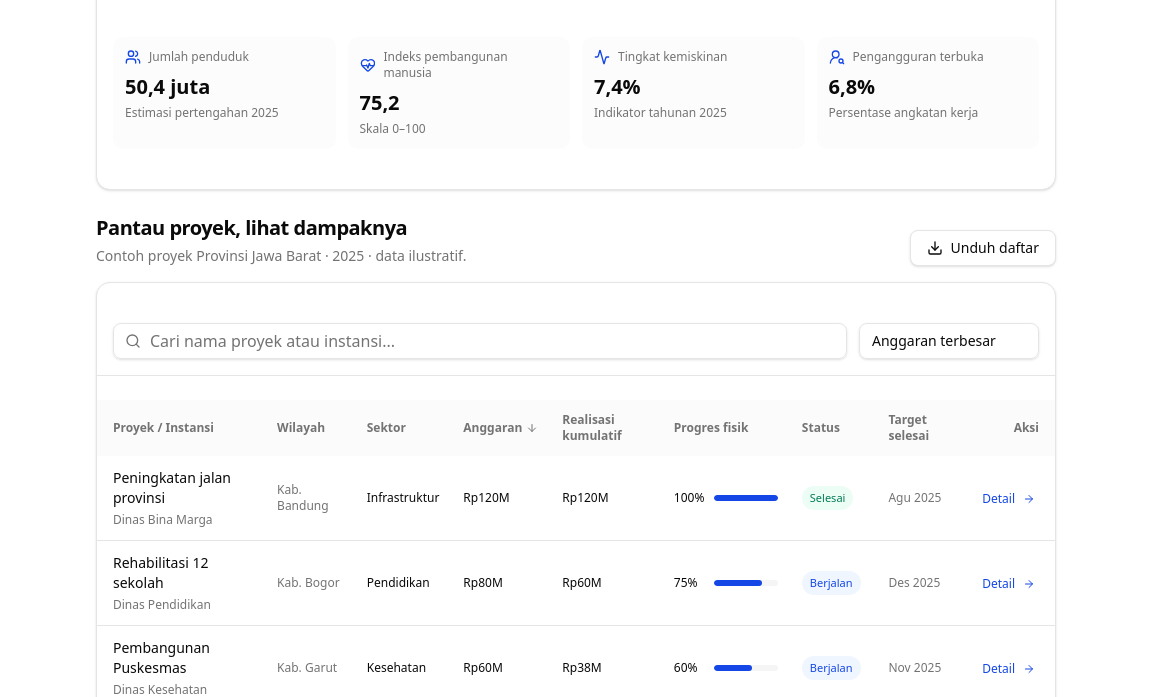
PublicDataPage › filters and sorts project rows and opens project details
The width and height of the screenshot is (1152, 697).
(page scrolled)
Type "Rehabilitasi" into the field labelled "Cari nama proyek atau instansi".
click(480, 341); type("Rehabilitasi")  # box [113,323,847,359]
(page scrolled)
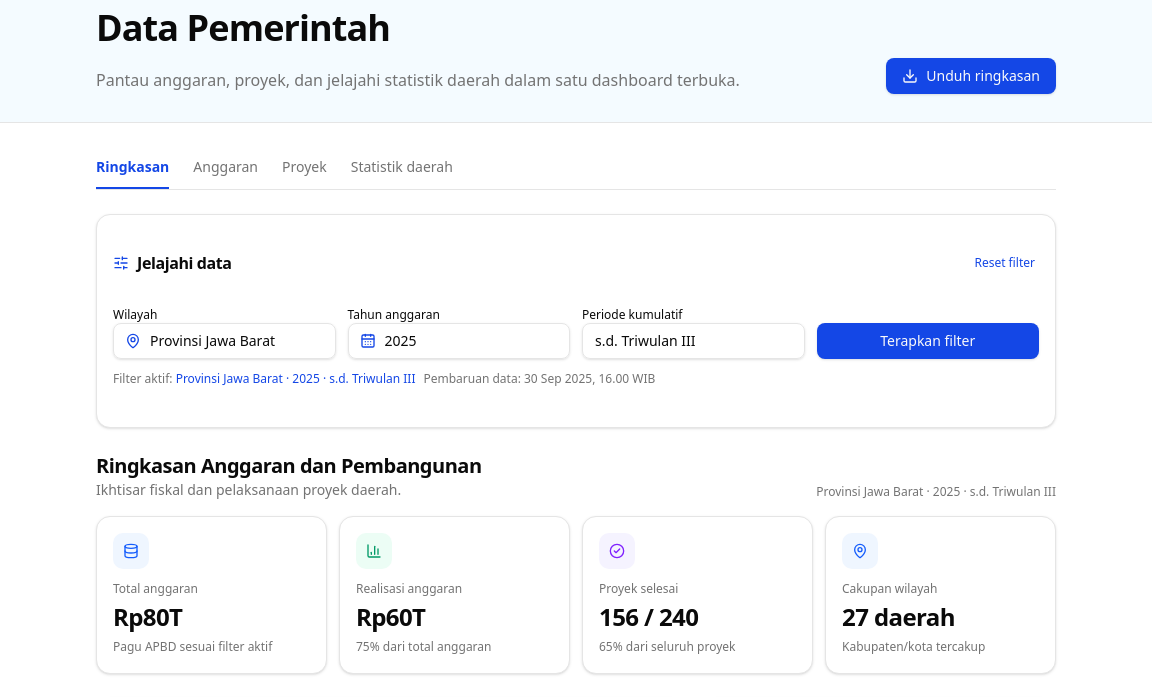
Select "s.d. Triwulan I" in the dropdown labelled "Periode kumulatif" at (693, 341), box [582,323,804,359]
(page scrolled)
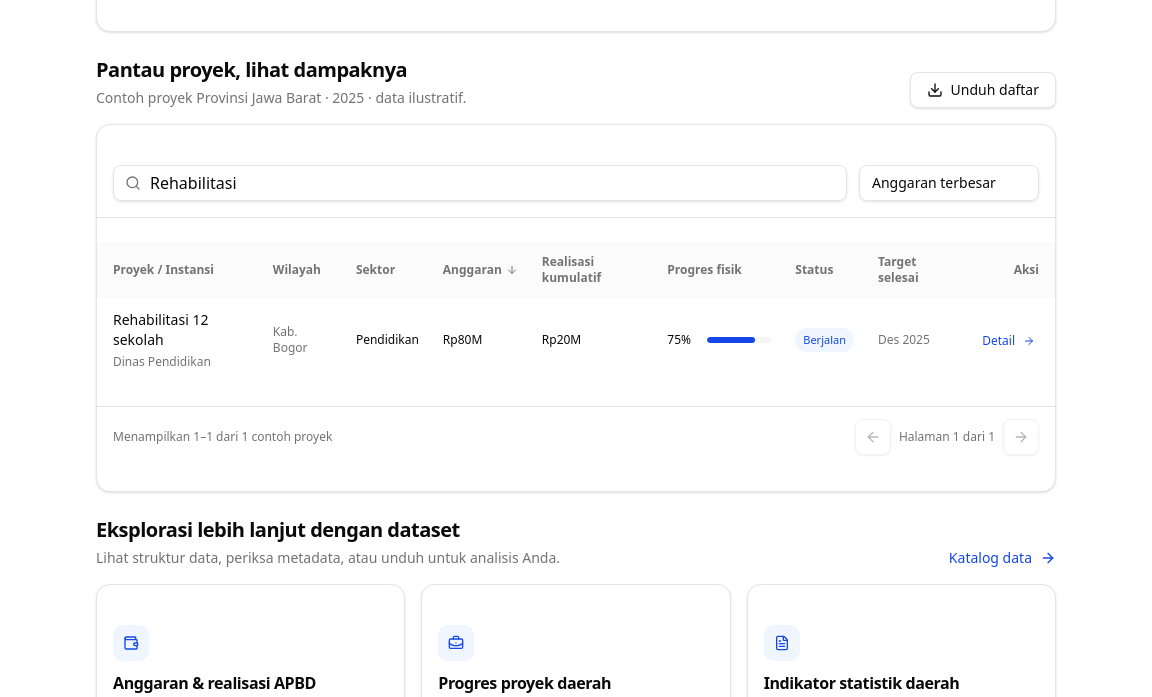
expect the text "Rp20M" is shown: met, box [530,298,655,382]
Click the button "Detail".
click(1009, 341)  # box [978,333,1039,349]
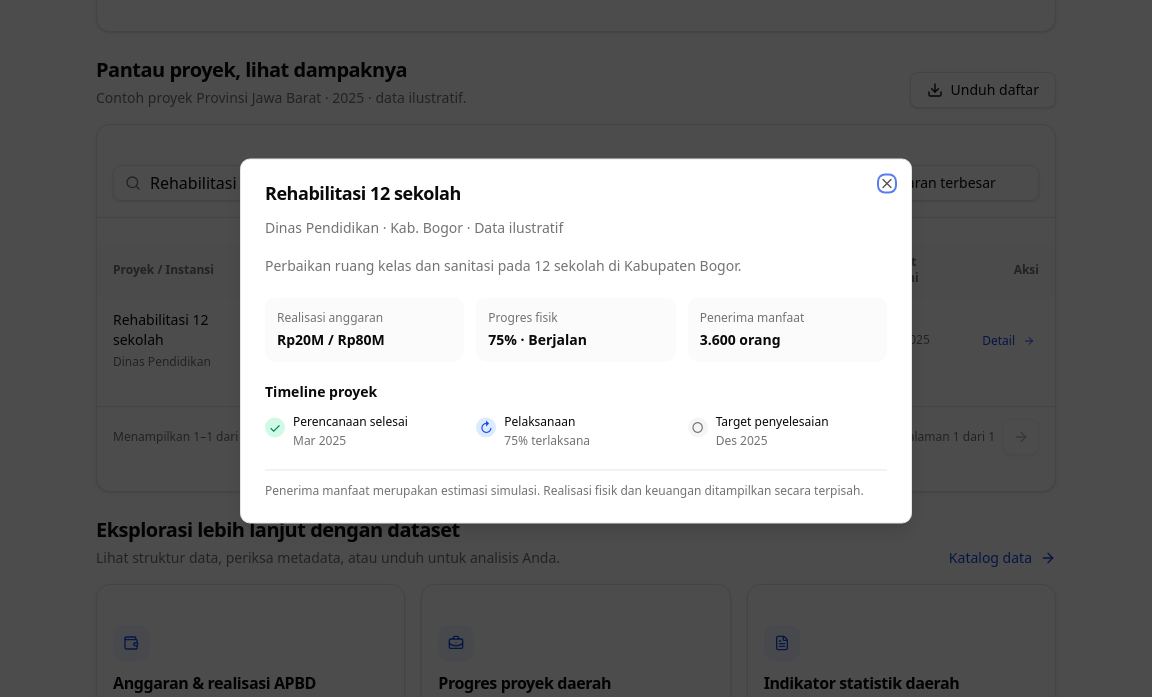
expect the text "75% · Berjalan" is shown: met, box [488,330,587,348]
expect the text "3.600 orang" is shown: met, box [700,330,781,348]
expect the heading "Timeline proyek" is shown: met, box [265,382,377,400]
